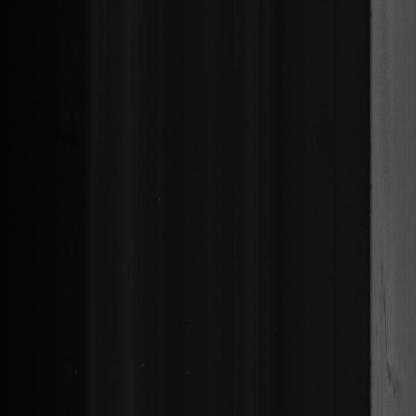silk_spot: (374, 261, 410, 416)
